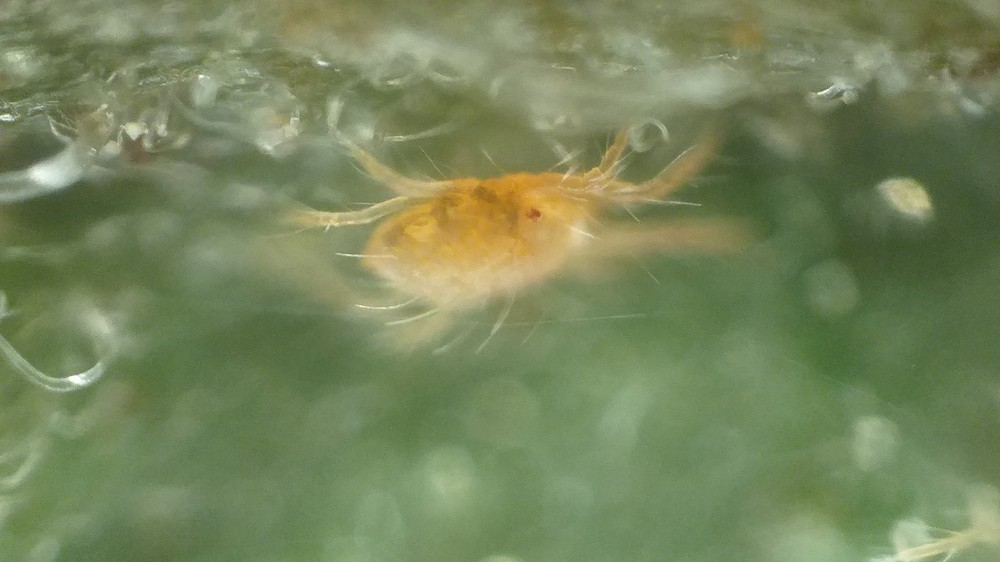Aracnido Rojo: (266, 105, 776, 358)
